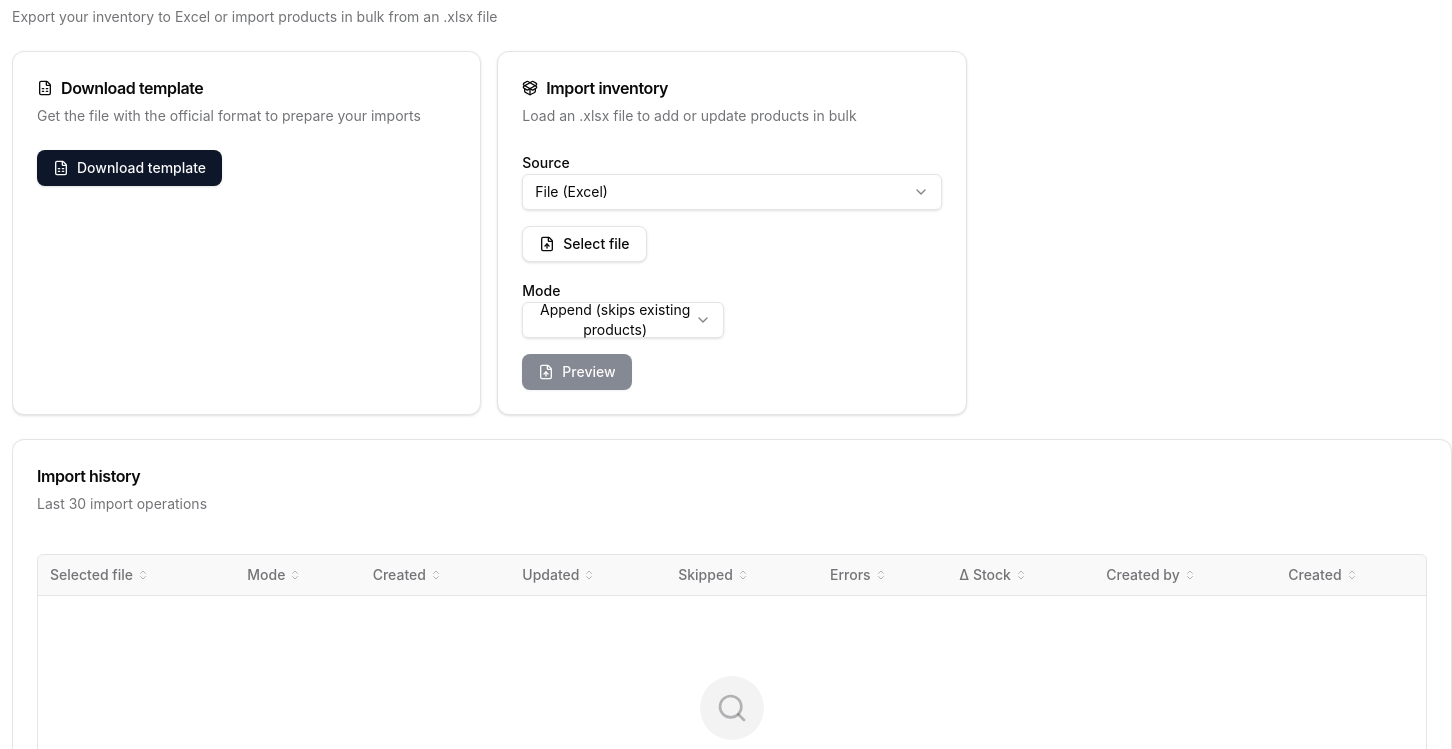
it: ImportExportPage › previews and imports the bundled demo catalog without selecting a file
Click the dropdown "File (Excel)": [572, 192] box [522,174,942,210]
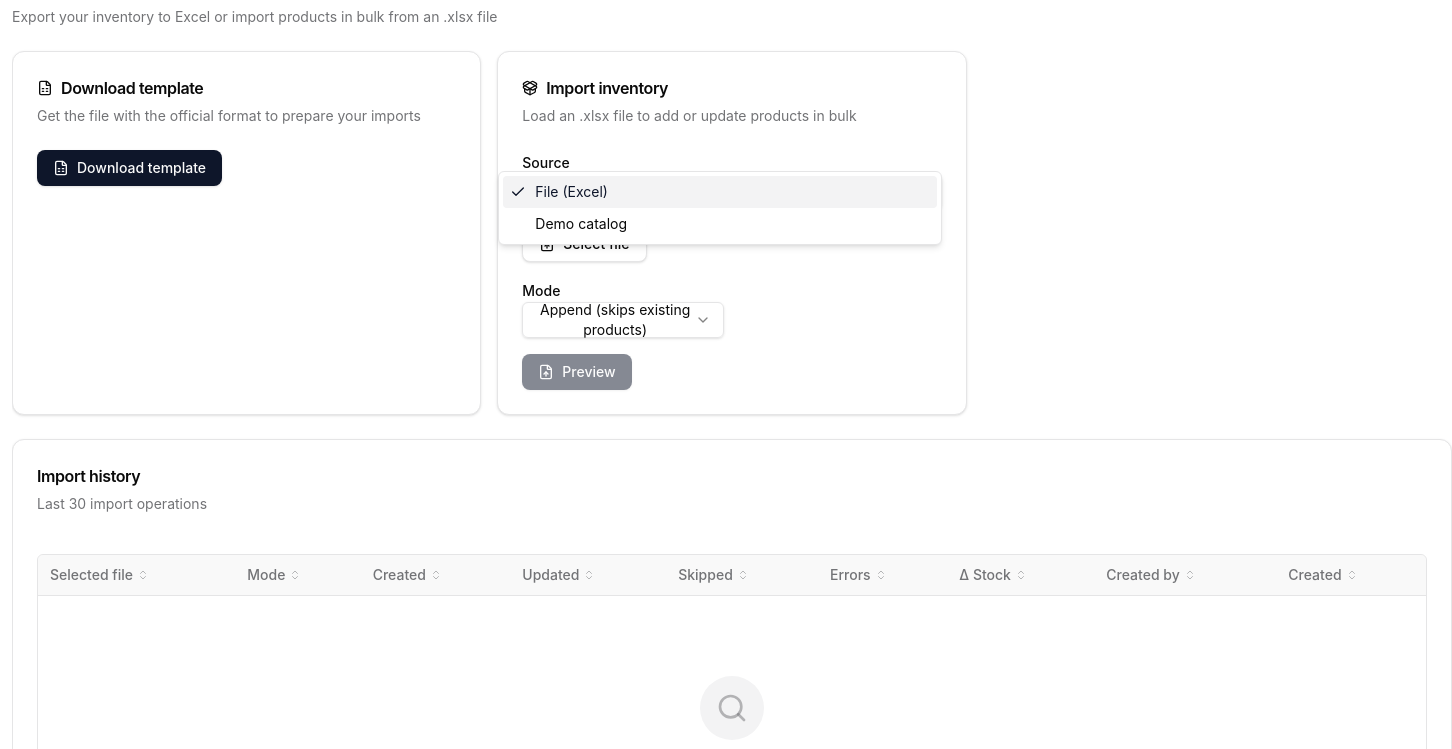
Click the option "Demo catalog": [581, 224] box [535,215,627,232]
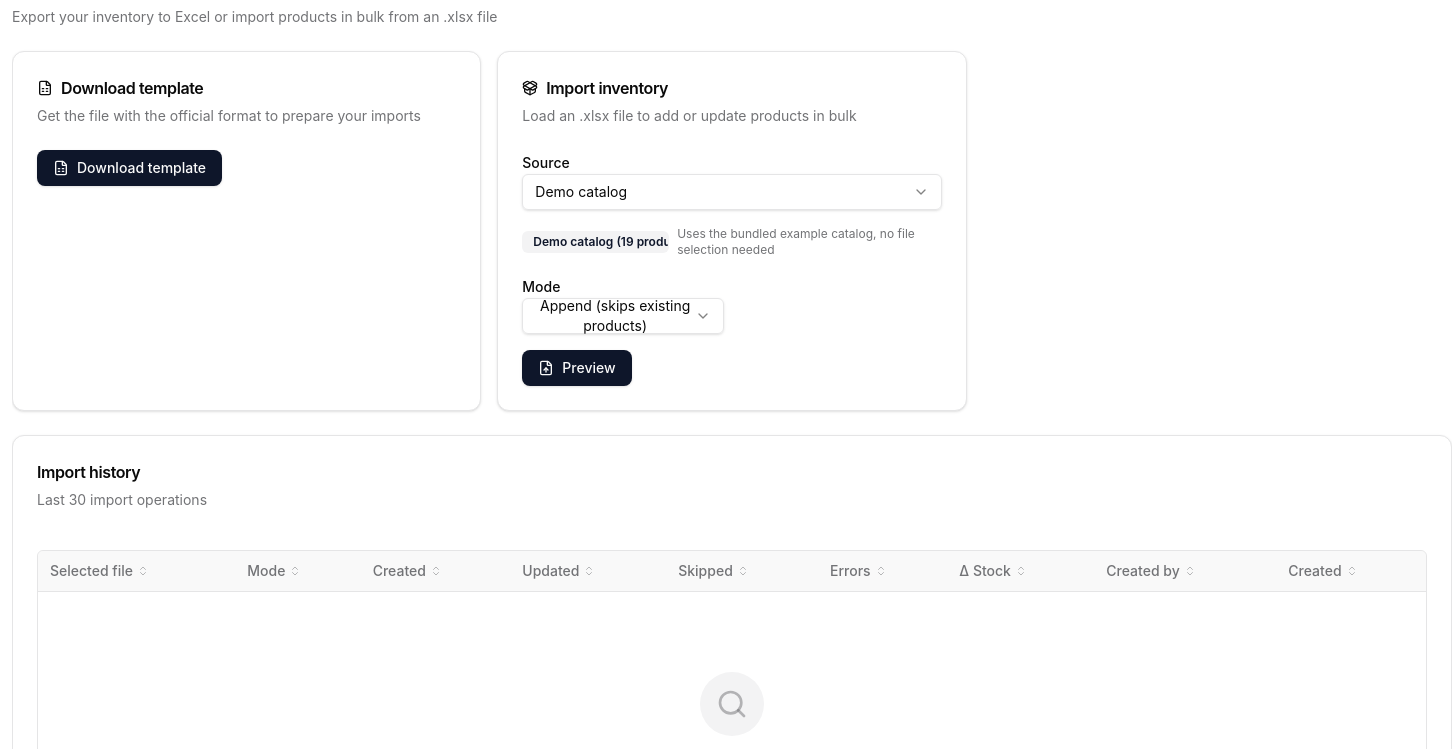
Result: the text "Demo catalog (19 products)" is shown at [522,231,669,253]
Click the button "Preview": [577, 368] box [522,350,632,386]
(page scrolled)
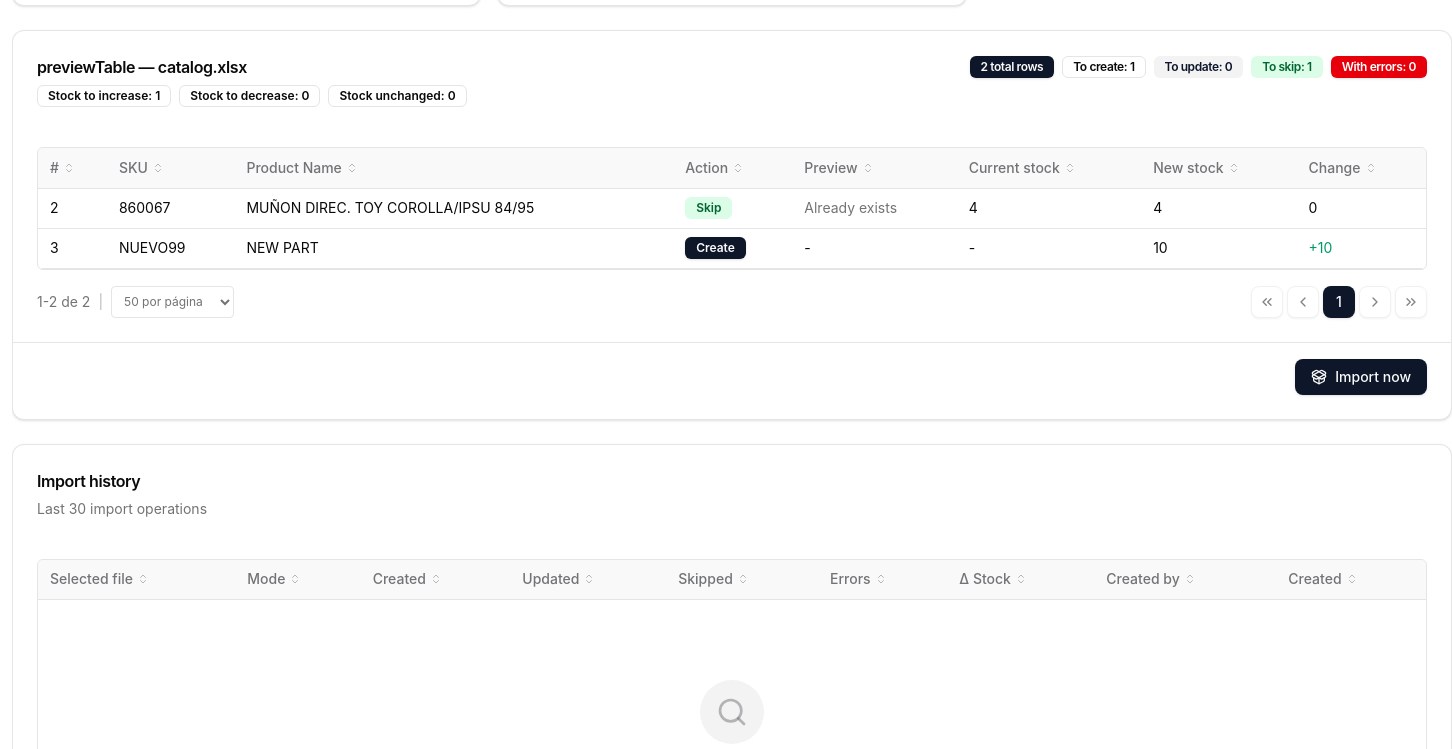
Click the button "Import now": [1361, 376] box [1295,358,1427,394]
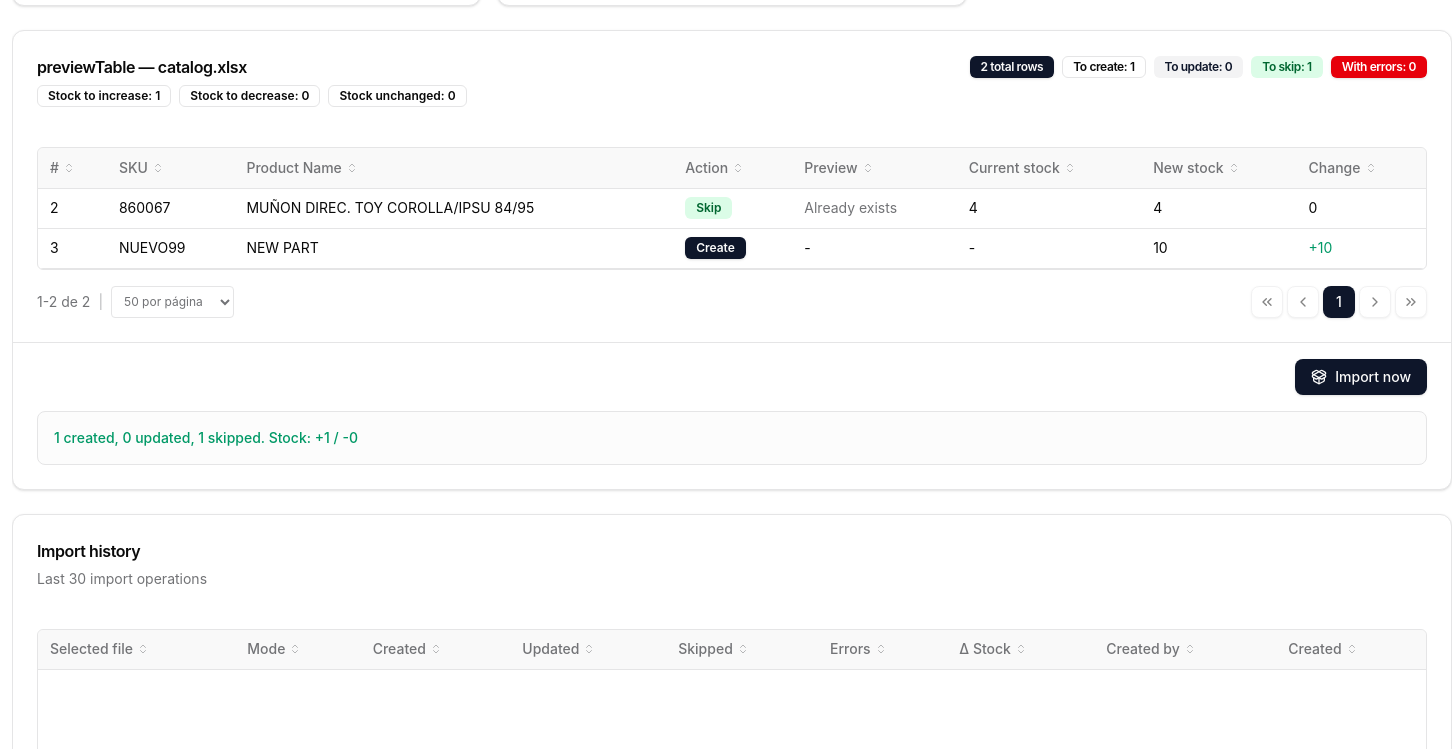
Result: the text "1 created, 0 updated, 1 skipped. Stock: +1 / -0" is shown at [54,428,358,446]
